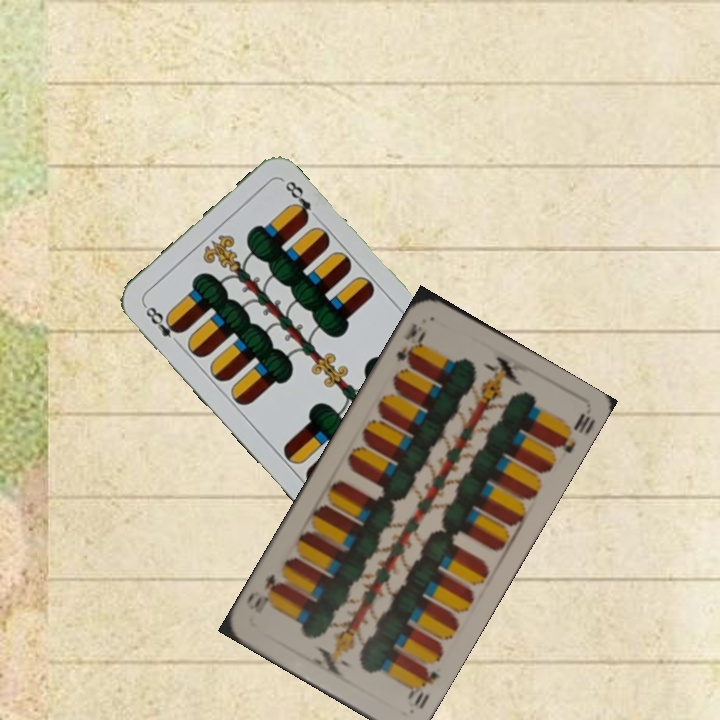E10: (403, 663, 444, 712), (392, 319, 429, 373)
E8: (140, 301, 185, 349)
